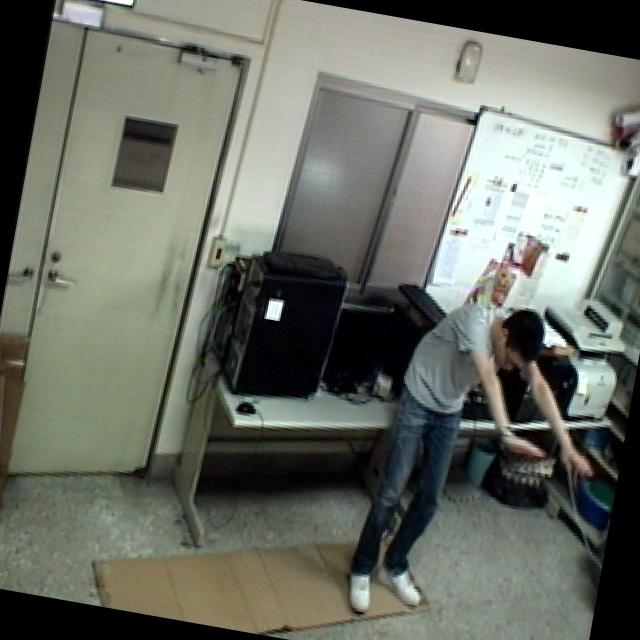bend: (335, 271, 622, 640)
